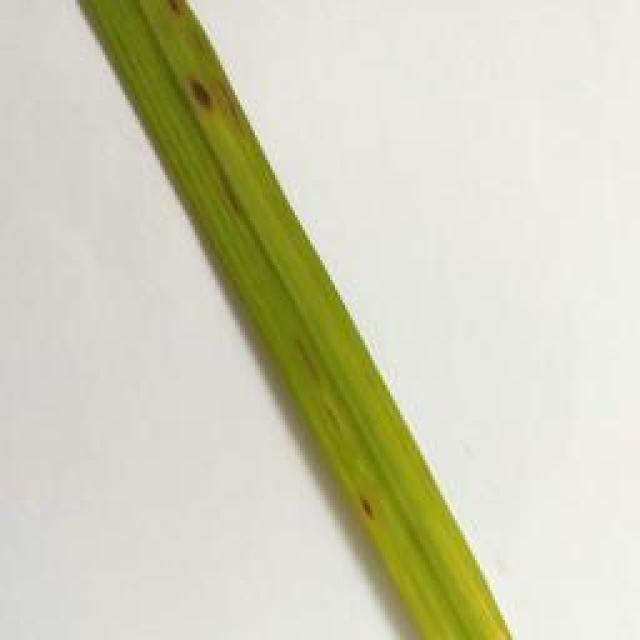Brown_Spot: (172, 64, 234, 132), (350, 480, 385, 540), (140, 0, 212, 28)
